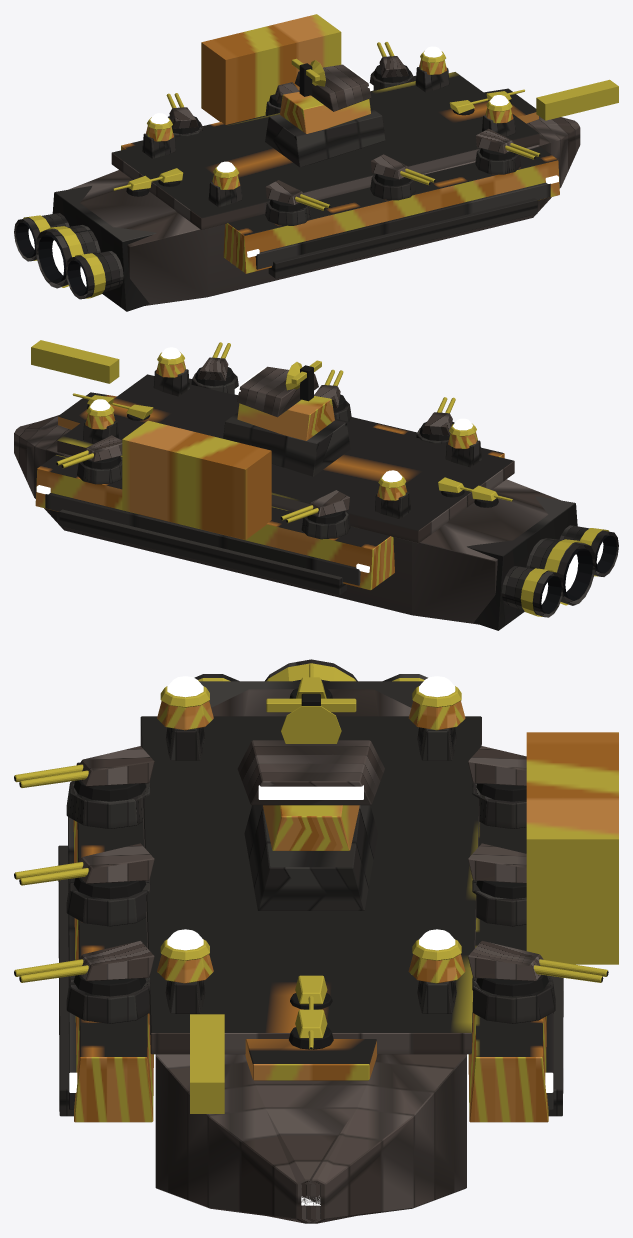
The model's file is cruiser.glb.
The picture shows the model from 3 angles, top to bottom: view 1: azimuth 30°, elevation 25°; view 2: azimuth 150°, elevation 25°; view 3: azimuth 270°, elevation 25°; orthographic projection. The views are drawn at different scales.
Parts seen in each view (by area): view 1: faction-pirates_cruiser; view 2: faction-pirates_cruiser; view 3: faction-pirates_cruiser.
Boxes of the visible parts, x1,y1,x2,y2 form: faction-pirates_cruiser: (14, 14, 618, 311); faction-pirates_cruiser: (14, 340, 618, 630); faction-pirates_cruiser: (14, 659, 618, 1223).
Size of the model in its own units: 42.84 by 13.19 by 22.05.
Materials: 1 (1 with a texture image).
